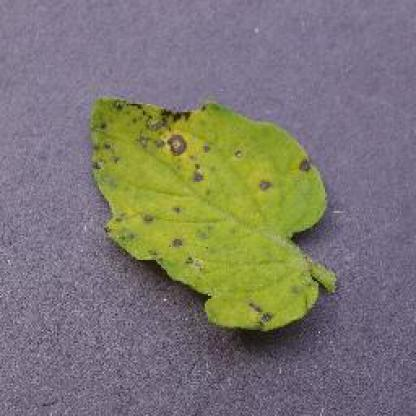bad leaf: (66, 111, 332, 268), (207, 102, 352, 359), (87, 74, 249, 296), (119, 232, 356, 364), (72, 69, 212, 168)
